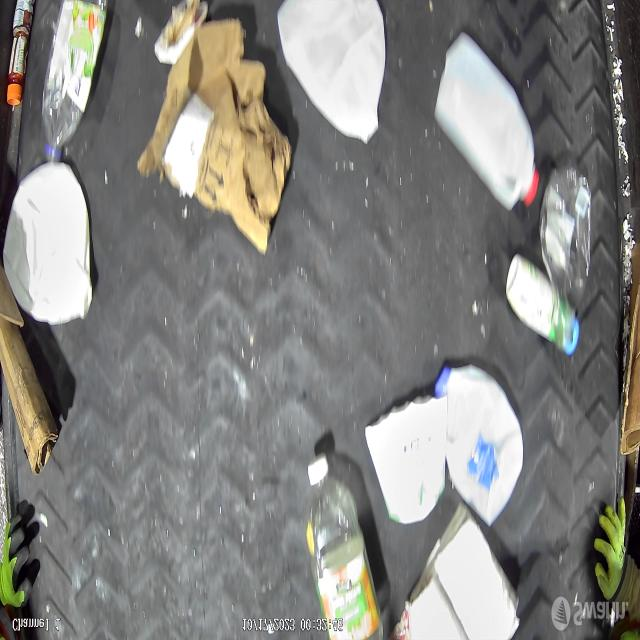milk_jug: (435, 34, 540, 213), (276, 1, 386, 147), (4, 161, 95, 331), (431, 361, 524, 527)
plastic_bottle: (307, 461, 380, 638), (41, 2, 108, 164), (542, 166, 594, 352)
